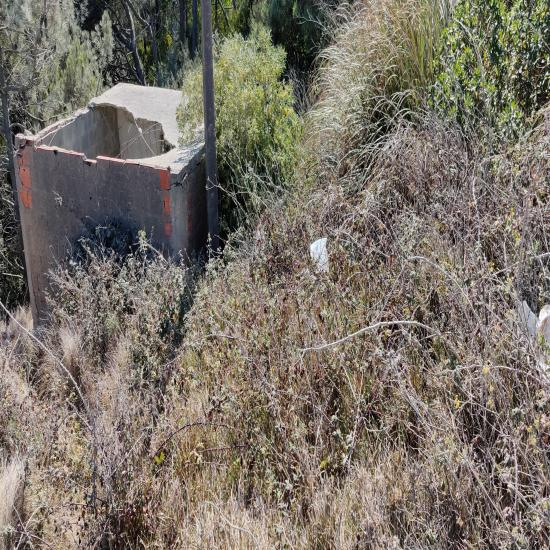Garbage bag: (107, 196, 216, 406)
